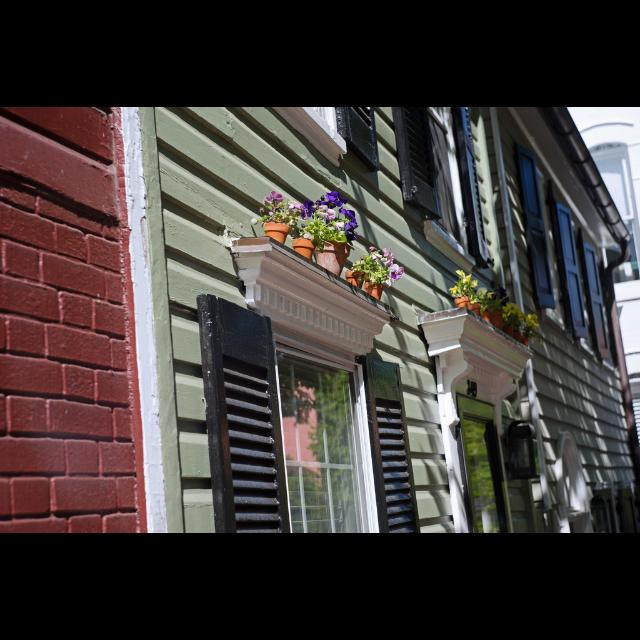Flower: (448, 268, 544, 346), (300, 200, 348, 246), (360, 248, 404, 286), (263, 190, 283, 204), (288, 202, 304, 212)
